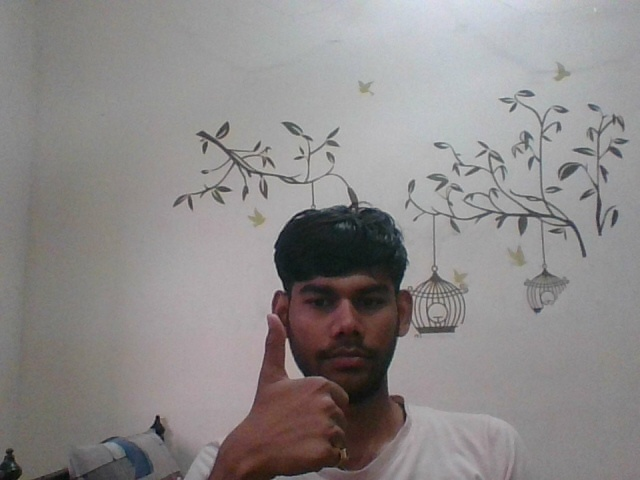Yes: (218, 303, 366, 480)
